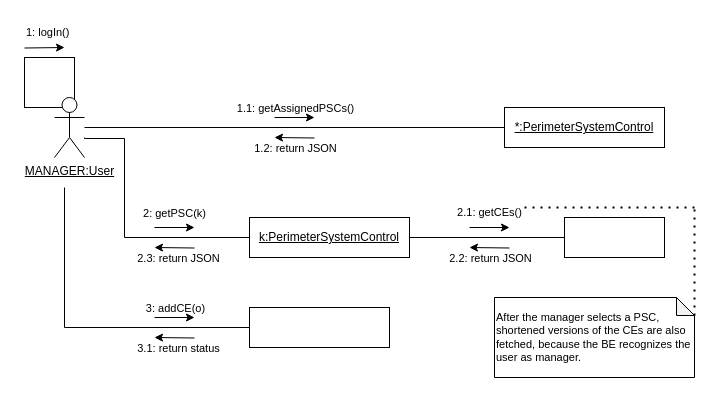
This 714x395 diagram has some shape labels left out. Each missing label, with the centre of its shape:
*:ContractEvent: (614,237)
o:ContractEvent: (319,327)
